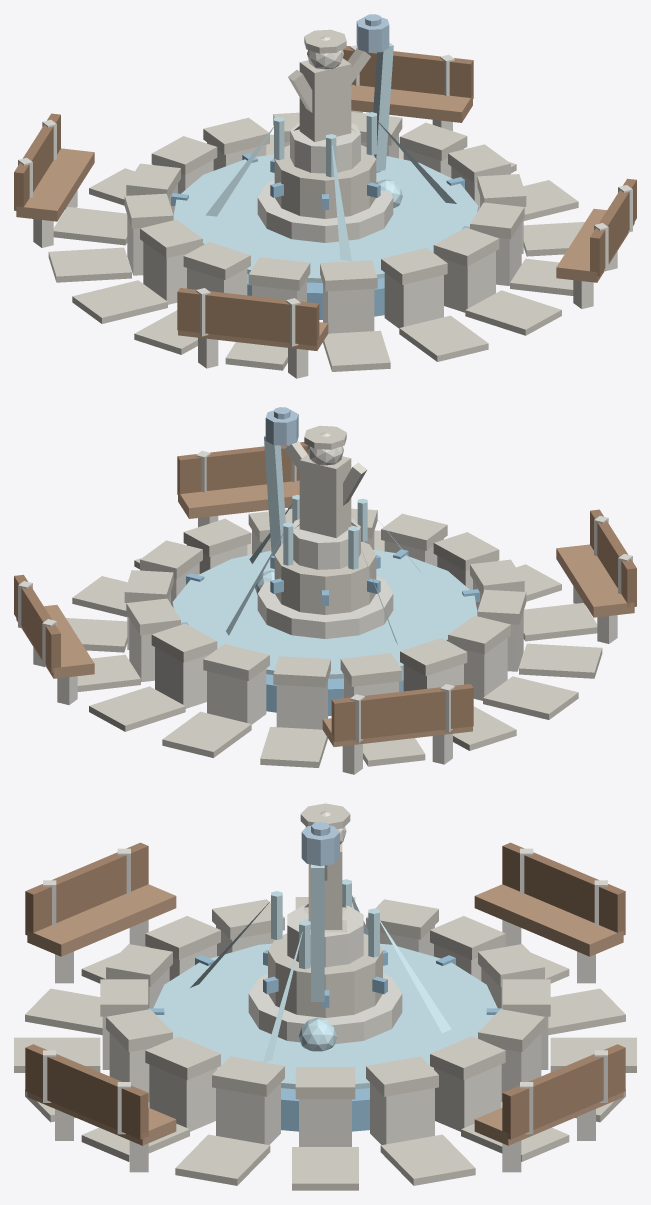
The model's file is kasna.glb.
3 renders of one model, top to bottom at view 1: azimuth 30°, elevation 25°; view 2: azimuth 150°, elevation 25°; view 3: azimuth 270°, elevation 25°, orthographic. The views are drawn at different scales.
Parts seen in each view (by area): view 1: Kasna_stone2, Kasna_stone, Kasna_water, Kasna_wood2, Kasna_wood, Kasna_mosaic, Kasna_blue2; view 2: Kasna_stone2, Kasna_stone, Kasna_water, Kasna_wood2, Kasna_wood, Kasna_mosaic, Kasna_blue2; view 3: Kasna_stone2, Kasna_stone, Kasna_water, Kasna_wood2, Kasna_wood, Kasna_mosaic, Kasna_blue2.
Part boxes in pixels (left/top/right/bottom): Kasna_stone2: left=48, top=29, right=584, bottom=371; Kasna_stone: left=18, top=36, right=632, bottom=378; Kasna_water: left=173, top=42, right=478, bottom=282; Kasna_wood2: left=14, top=46, right=636, bottom=345; Kasna_wood: left=16, top=84, right=634, bottom=350; Kasna_mosaic: left=171, top=153, right=469, bottom=319; Kasna_blue2: left=356, top=14, right=389, bottom=52; Kasna_stone2: left=66, top=425, right=602, bottom=767; Kasna_stone: left=18, top=432, right=632, bottom=774; Kasna_water: left=172, top=435, right=477, bottom=678; Kasna_wood2: left=14, top=442, right=636, bottom=741; Kasna_wood: left=16, top=480, right=634, bottom=746; Kasna_mosaic: left=181, top=549, right=479, bottom=716; Kasna_blue2: left=265, top=407, right=298, bottom=445; Kasna_stone2: left=14, top=803, right=636, bottom=1190; Kasna_stone: left=43, top=811, right=607, bottom=1172; Kasna_water: left=153, top=864, right=497, bottom=1089; Kasna_wood2: left=25, top=842, right=625, bottom=1139; Kasna_wood: left=27, top=884, right=623, bottom=1145; Kasna_mosaic: left=148, top=950, right=502, bottom=1131; Kasna_blue2: left=301, top=822, right=339, bottom=866.
Bounding box in the file's own units: 6.5 × 2.97 × 6.5.
